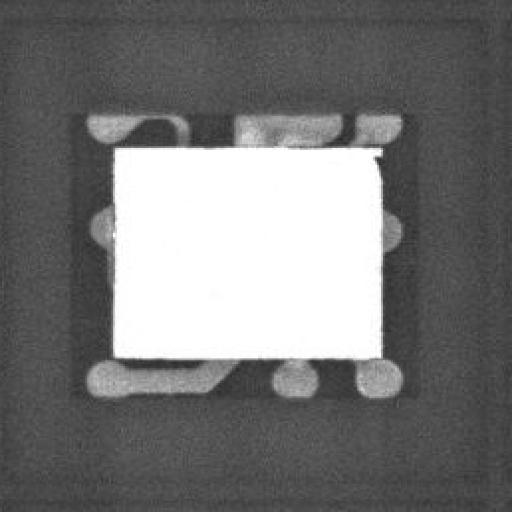DIE_BROKEN: (369, 152, 381, 182)
